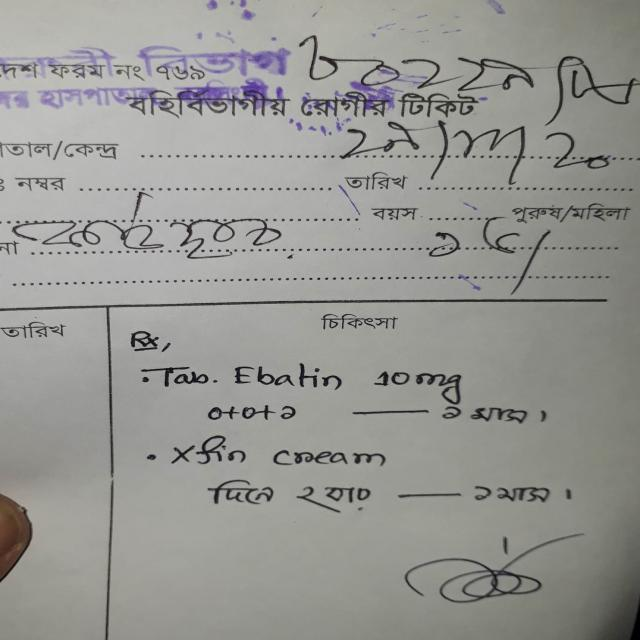Ebatin: (228, 360, 348, 394)
Xfin: (164, 431, 261, 475)
